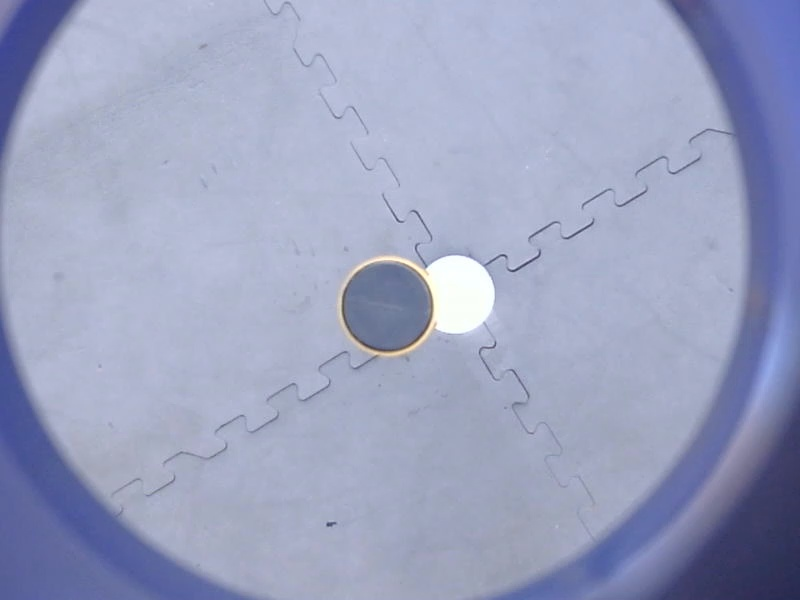tip: (333, 248, 443, 362)
